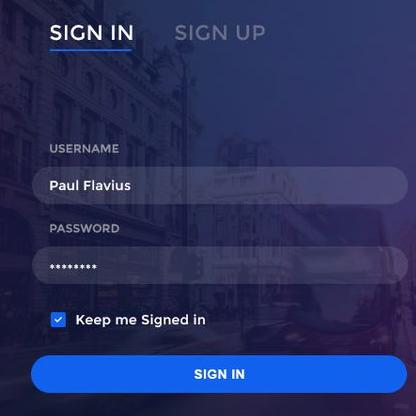button: (30, 354, 408, 395)
checkbox: (48, 311, 68, 329)
checkbox_with_label: (45, 309, 205, 331)
field: (29, 164, 410, 206), (30, 244, 409, 286)
field_with_label: (26, 140, 412, 208), (25, 222, 413, 289)
